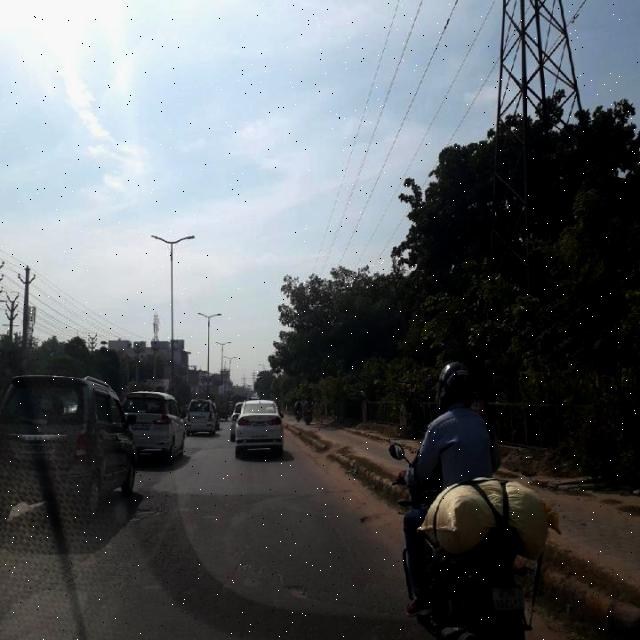D40: (119, 500, 167, 530), (360, 510, 390, 532), (286, 576, 316, 597)
